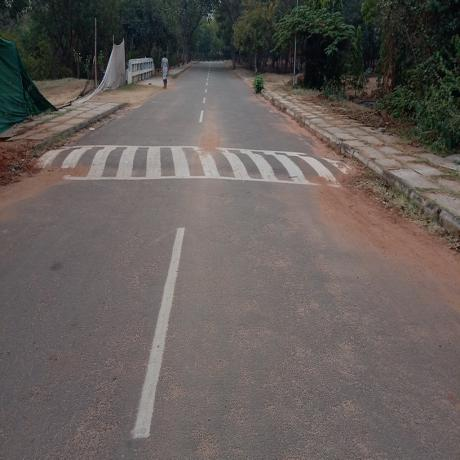Speed Bump: (37, 141, 351, 189)
